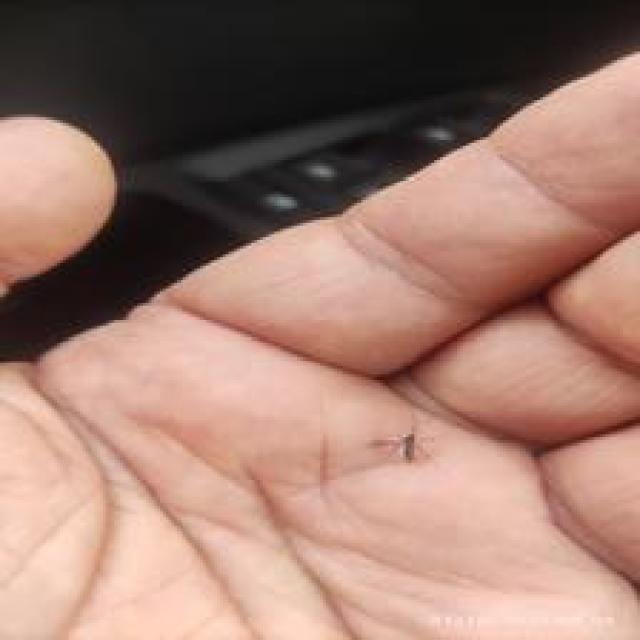Aedes albopictus: (368, 427, 432, 464)
